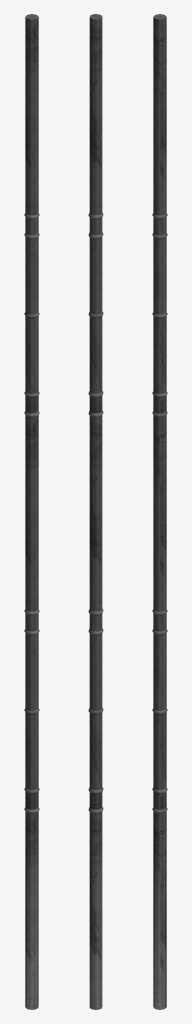
Rendered from sm_dwarf_erebor_spear_handle_b.fbx.
The picture shows the model from 3 angles, left to right: view 1: azimuth 90°, elevation 25°; view 2: azimuth 150°, elevation 25°; view 3: azimuth 270°, elevation 25°; orthographic projection.
Parts seen in each view (by area): view 1: sm_dwarf_erebor_spear_handle_b; view 2: sm_dwarf_erebor_spear_handle_b; view 3: sm_dwarf_erebor_spear_handle_b.
Part boxes in pixels (x1,y1,x2,y2): sm_dwarf_erebor_spear_handle_b: (24, 14, 39, 1009); sm_dwarf_erebor_spear_handle_b: (88, 14, 103, 1009); sm_dwarf_erebor_spear_handle_b: (152, 14, 167, 1009).
Size of the model in its own units: 0.0358 by 0.0358 by 2.5.
1 material, 1 textured.
